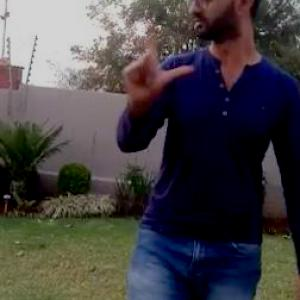land_hand: (118, 28, 195, 105)
